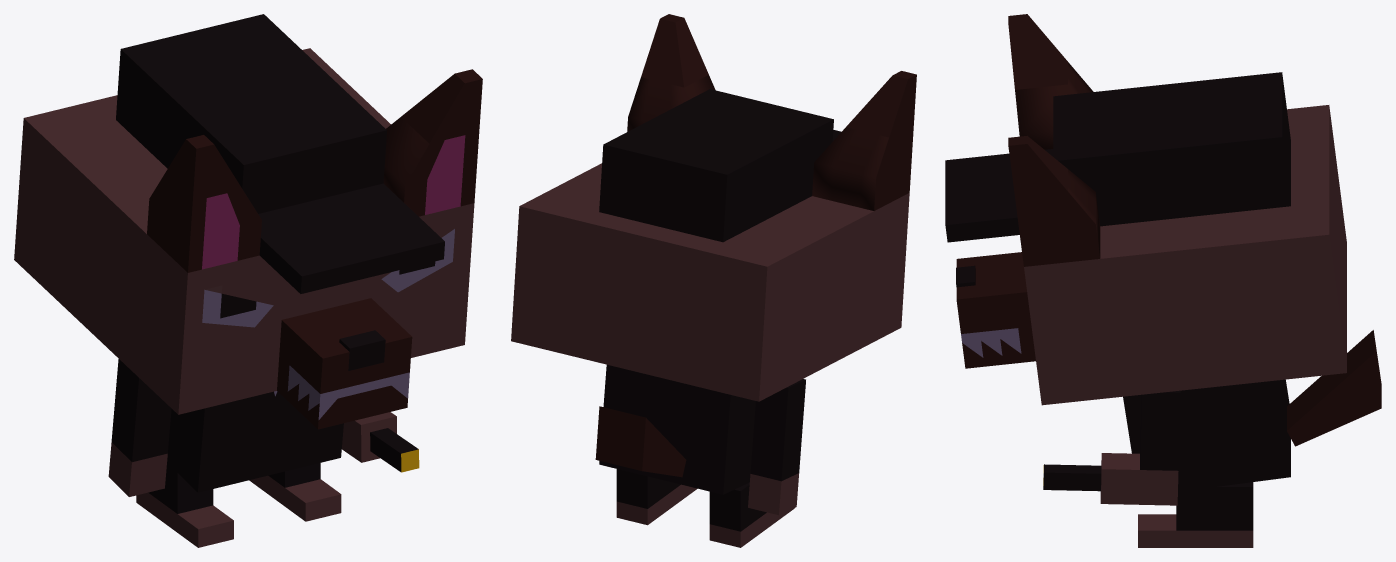
Rendered from guardDog_cautious.glb.
3 renders of one model, left to right at view 1: azimuth 30°, elevation 25°; view 2: azimuth 150°, elevation 25°; view 3: azimuth 270°, elevation 25°, orthographic. The views are drawn at different scales.
Visible parts, largest first — view 1: guardDogCautious_head_MSH, guardDogCautious_body_MSH, guardDogCautious_R_arm_MSH, guardDogCautious_R_leg_MSH, guardDogCautious_L_leg_MSH, guardDogCautious_L_arm_MSH; view 2: guardDogCautious_head_MSH, guardDogCautious_body_MSH, guardDogCautious_R_arm_MSH, guardDogCautious_tail_MSH, guardDogCautious_R_leg_MSH, guardDogCautious_L_leg_MSH; view 3: guardDogCautious_head_MSH, guardDogCautious_body_MSH, guardDogCautious_L_arm_MSH, guardDogCautious_L_leg_MSH, guardDogCautious_tail_MSH.
Boxes of the visible parts, x1=… form: guardDogCautious_head_MSH: x1=14, y1=14, x2=482, y2=429; guardDogCautious_body_MSH: x1=167, y1=391, x2=343, y2=492; guardDogCautious_R_arm_MSH: x1=108, y1=359, x2=171, y2=496; guardDogCautious_R_leg_MSH: x1=136, y1=462, x2=233, y2=547; guardDogCautious_L_leg_MSH: x1=249, y1=463, x2=341, y2=521; guardDogCautious_L_arm_MSH: x1=342, y1=412, x2=419, y2=472; guardDogCautious_head_MSH: x1=511, y1=14, x2=916, y2=401; guardDogCautious_body_MSH: x1=599, y1=364, x2=755, y2=494; guardDogCautious_R_arm_MSH: x1=748, y1=379, x2=805, y2=515; guardDogCautious_tail_MSH: x1=595, y1=406, x2=686, y2=477; guardDogCautious_R_leg_MSH: x1=709, y1=482, x2=794, y2=547; guardDogCautious_L_leg_MSH: x1=616, y1=469, x2=697, y2=525; guardDogCautious_head_MSH: x1=945, y1=14, x2=1346, y2=405; guardDogCautious_body_MSH: x1=1123, y1=379, x2=1290, y2=491; guardDogCautious_L_arm_MSH: x1=1043, y1=390, x2=1180, y2=505; guardDogCautious_L_leg_MSH: x1=1138, y1=482, x2=1253, y2=547; guardDogCautious_tail_MSH: x1=1287, y1=330, x2=1381, y2=446.
Size of the model in its own units: 0.667 by 1.05 by 0.9466.
